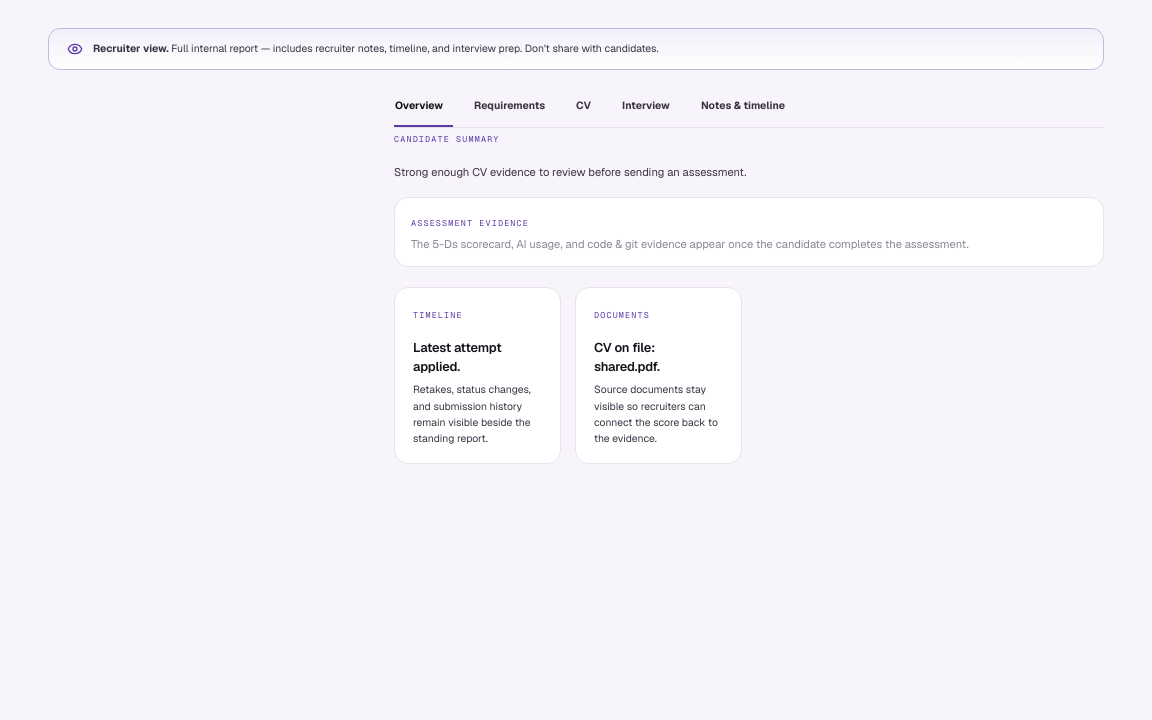
Scenario: SecureCandidateShareLinks › renders the unauthenticated /share/:token route via viewShareLink
Click the link "Notes & timeline": [743, 106] box x1=701 y1=99 x2=785 y2=112
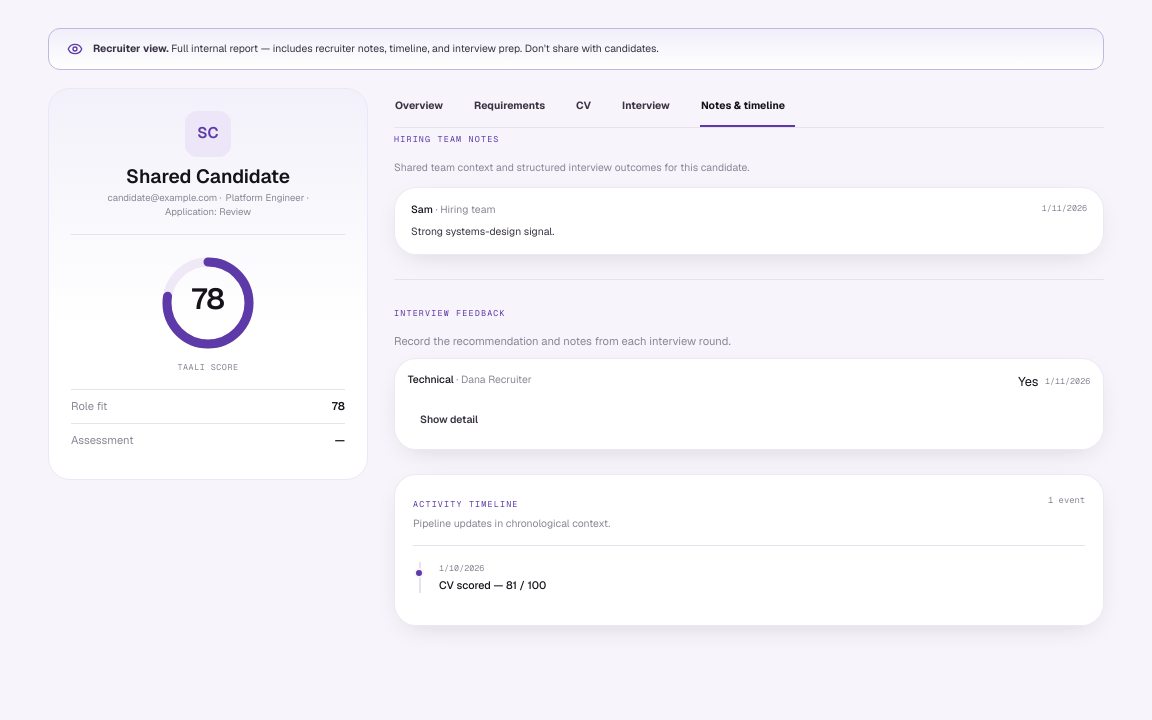
Now the element with id "report-pane-notes" is shown, box x1=394 y1=128 x2=1104 y2=626
Now the text "INTERVIEW FEEDBACK" is shown, box x1=394 y1=307 x2=506 y2=320
